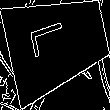L_E: (35, 21, 80, 65)
